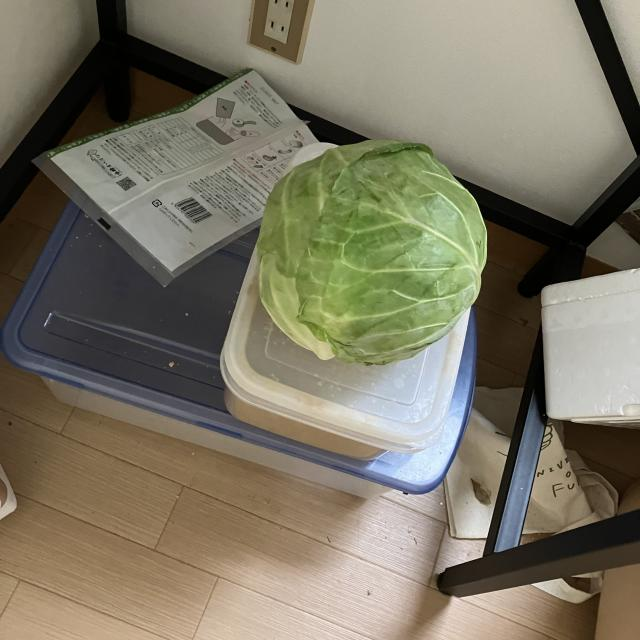cabbage: (252, 138, 491, 372)
